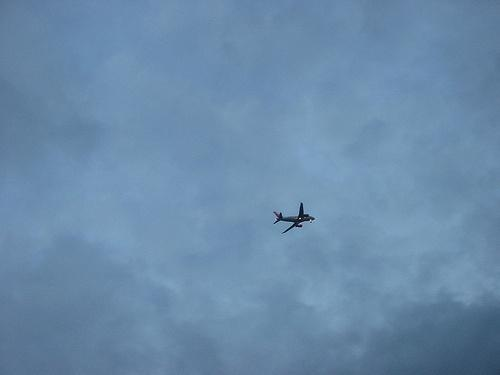aeroplane: (274, 204, 316, 235)
